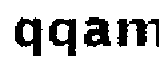a: (83, 16, 113, 50)
m: (113, 14, 160, 53)
q: (11, 17, 45, 60), (48, 16, 78, 60)
